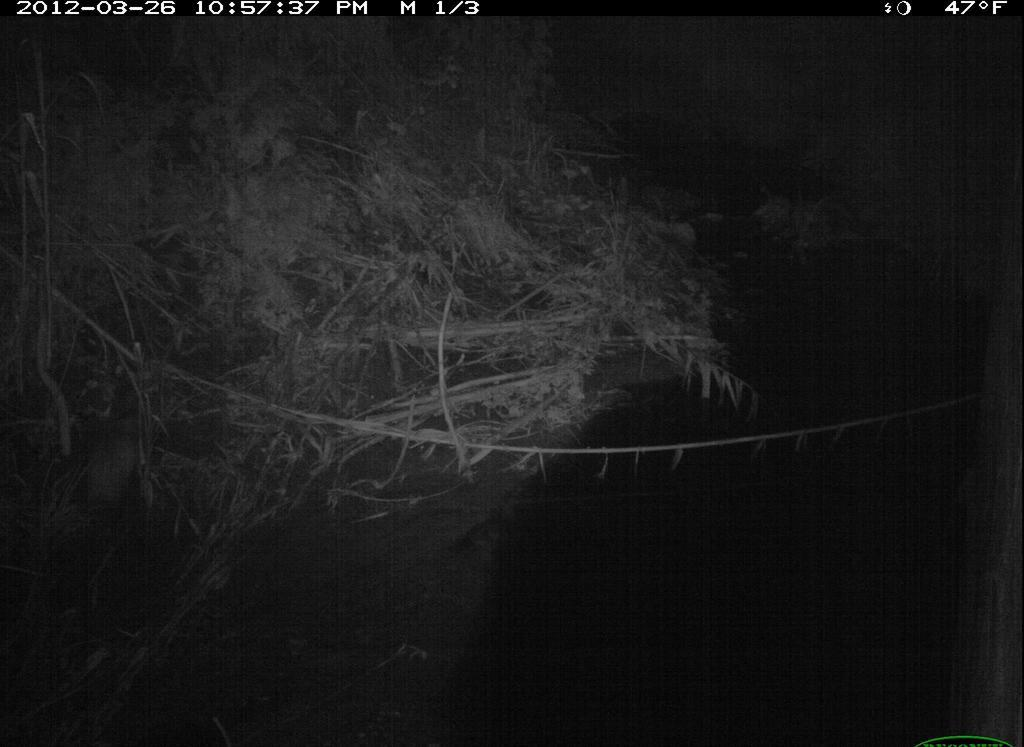opossum: (65, 364, 164, 537)
